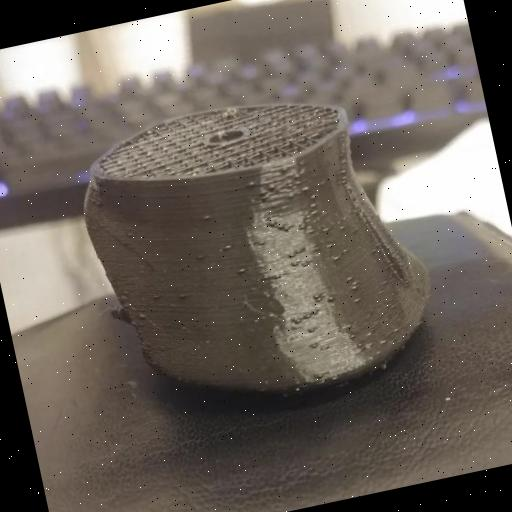blobs: (176, 286, 194, 302), (296, 182, 312, 196), (277, 220, 294, 233), (308, 291, 324, 304), (218, 238, 232, 252), (324, 293, 338, 306), (149, 290, 164, 302), (286, 259, 302, 270), (245, 178, 259, 190), (294, 244, 308, 256), (264, 182, 278, 194), (310, 304, 323, 316), (308, 338, 321, 350), (201, 210, 213, 222), (136, 308, 148, 320), (302, 255, 314, 267), (348, 279, 360, 291), (324, 238, 336, 250), (329, 250, 341, 262), (334, 222, 348, 232), (375, 336, 389, 346), (308, 323, 320, 334), (350, 296, 363, 306), (346, 331, 359, 341), (236, 265, 247, 276), (195, 252, 207, 262), (344, 272, 356, 282), (302, 309, 314, 319), (292, 316, 304, 326), (266, 218, 278, 228), (354, 339, 366, 349), (390, 324, 402, 334), (306, 200, 317, 210), (306, 226, 317, 236), (284, 251, 296, 260), (319, 224, 331, 232), (309, 192, 318, 202), (308, 208, 318, 216)
